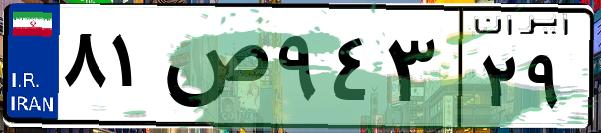1: (110, 28, 158, 98)
2: (475, 38, 525, 113)
3: (385, 28, 445, 110)
4: (330, 28, 385, 110)
8: (57, 26, 110, 100)
9: (270, 28, 330, 110), (525, 38, 570, 115)
ص: (158, 20, 270, 120)
